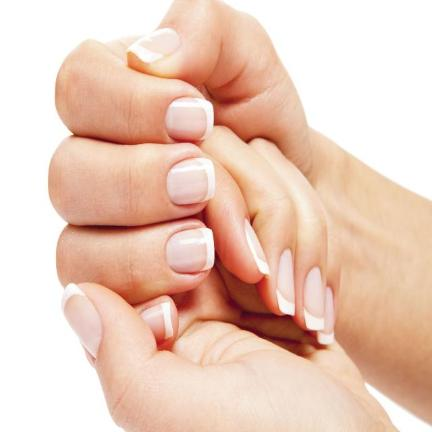Nail: (61, 282, 102, 359), (166, 158, 215, 206), (166, 227, 214, 274), (125, 27, 182, 64), (165, 97, 214, 140), (245, 218, 270, 275), (141, 302, 174, 343), (303, 267, 324, 330), (276, 249, 295, 316), (316, 286, 335, 345)
